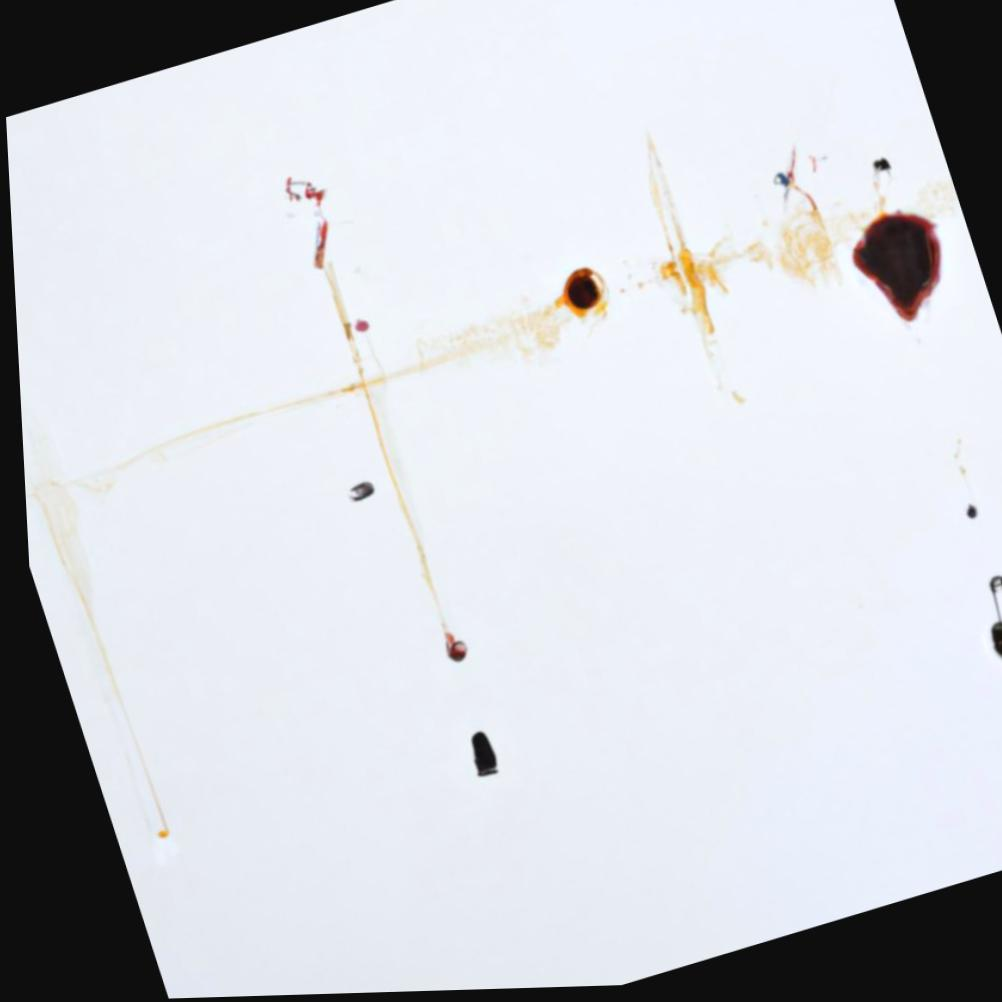Fire: (848, 213, 937, 327)
